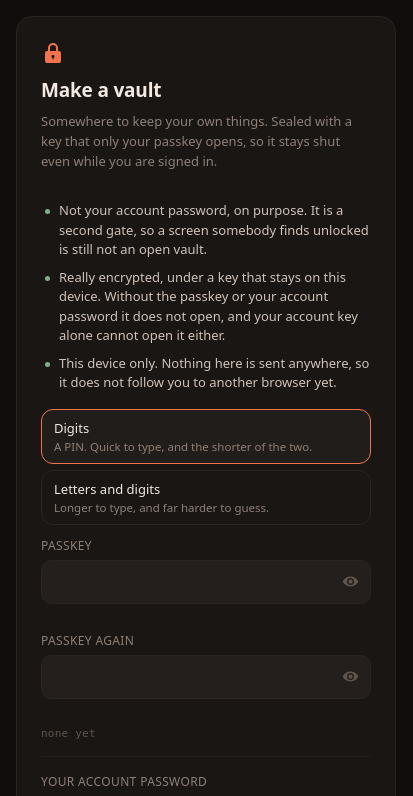
Test case: the vault screen › offers to make one, and says what a six digit passkey is worth
The width and height of the screenshot is (413, 796).
Expected: the heading "Make a vault" is shown, x1=41 y1=77 x2=161 y2=103
Type "318842" into the password field labelled "Passkey".
click(206, 582); type("318842")  # box x1=41 y1=560 x2=371 y2=604
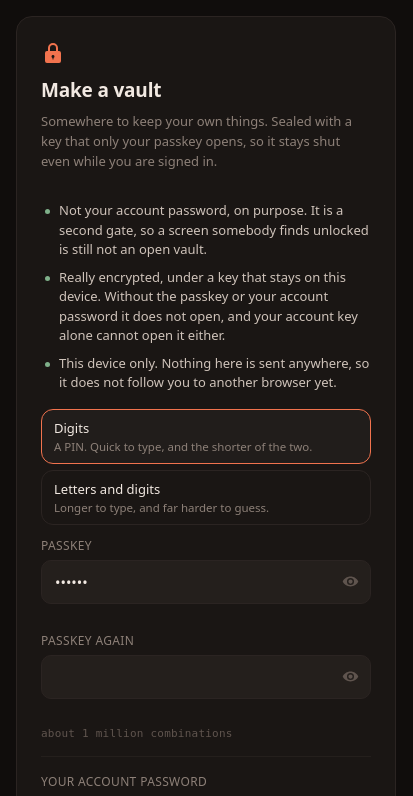
Result: the text "about 1 million combinations" is shown at x1=41 y1=727 x2=233 y2=740
